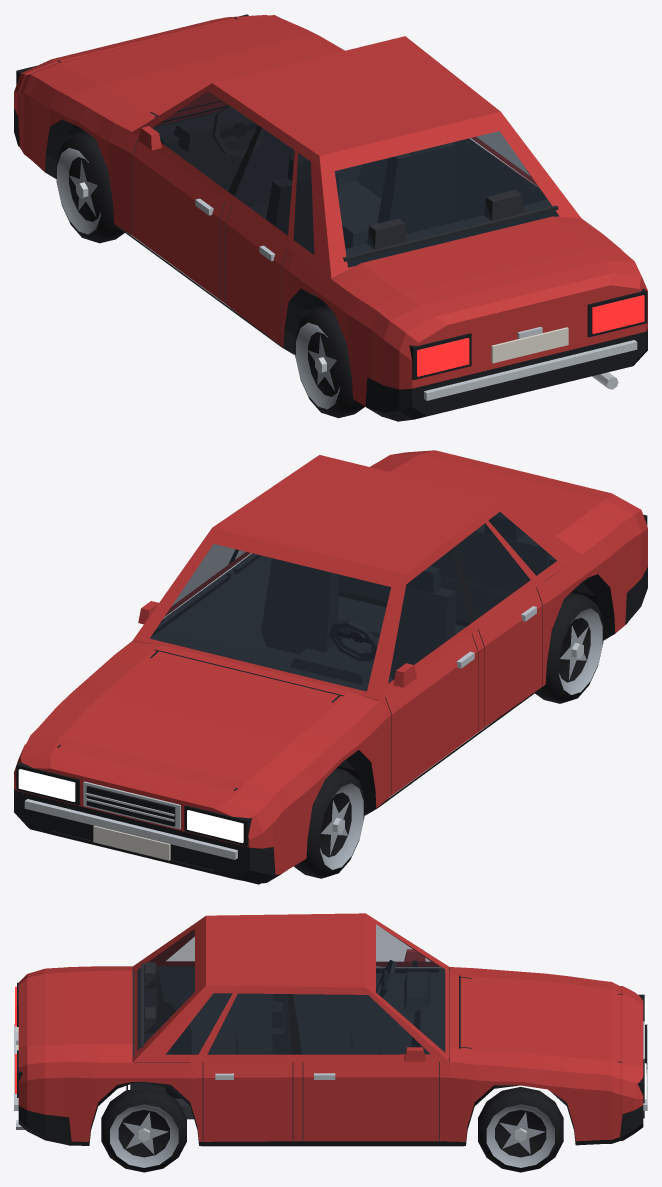
The model's file is sedan.glb.
The picture shows the model from 3 angles, top to bottom: view 1: azimuth 30°, elevation 25°; view 2: azimuth 150°, elevation 25°; view 3: azimuth 270°, elevation 25°; orthographic projection. The views are drawn at different scales.
Visible parts, largest first — view 1: Body, DoorL, DoorRearL, Wheel_RL, Wheel_FL, DoorRearR; view 2: Body, DoorL, DoorRearL, Wheel_RL, Wheel_FL, DoorR; view 3: Body, DoorR, DoorRearR, Wheel_FR, Wheel_RR, DoorL.
Part boxes in pixels (x1,y1,x2,y2): Body: (14, 14, 647, 421); DoorL: (133, 86, 261, 299); DoorRearL: (226, 119, 295, 345); Wheel_RL: (295, 306, 364, 418); Wheel_FL: (56, 132, 125, 243); DoorRearR: (472, 131, 535, 192); Body: (14, 450, 647, 884); DoorL: (385, 540, 477, 795); DoorRearL: (452, 516, 542, 727); Wheel_RL: (535, 592, 603, 703); Wheel_FL: (294, 768, 364, 878); DoorR: (138, 544, 234, 636); Body: (14, 913, 647, 1146); DoorR: (292, 986, 438, 1141); DoorRearR: (203, 986, 292, 1141); Wheel_FR: (478, 1087, 563, 1172); Wheel_RR: (101, 1088, 186, 1172); DoorL: (376, 949, 438, 973).
Bounding box in the file's own units: 1.82 × 1.45 × 4.77.
